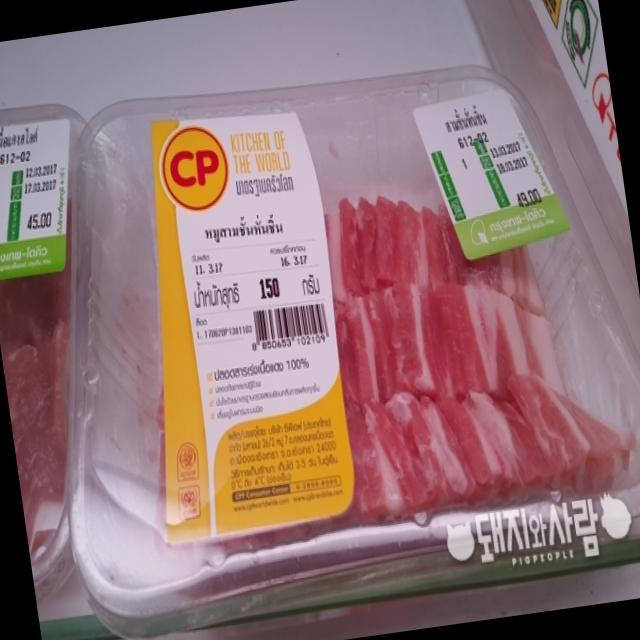pork: (79, 34, 624, 594)
